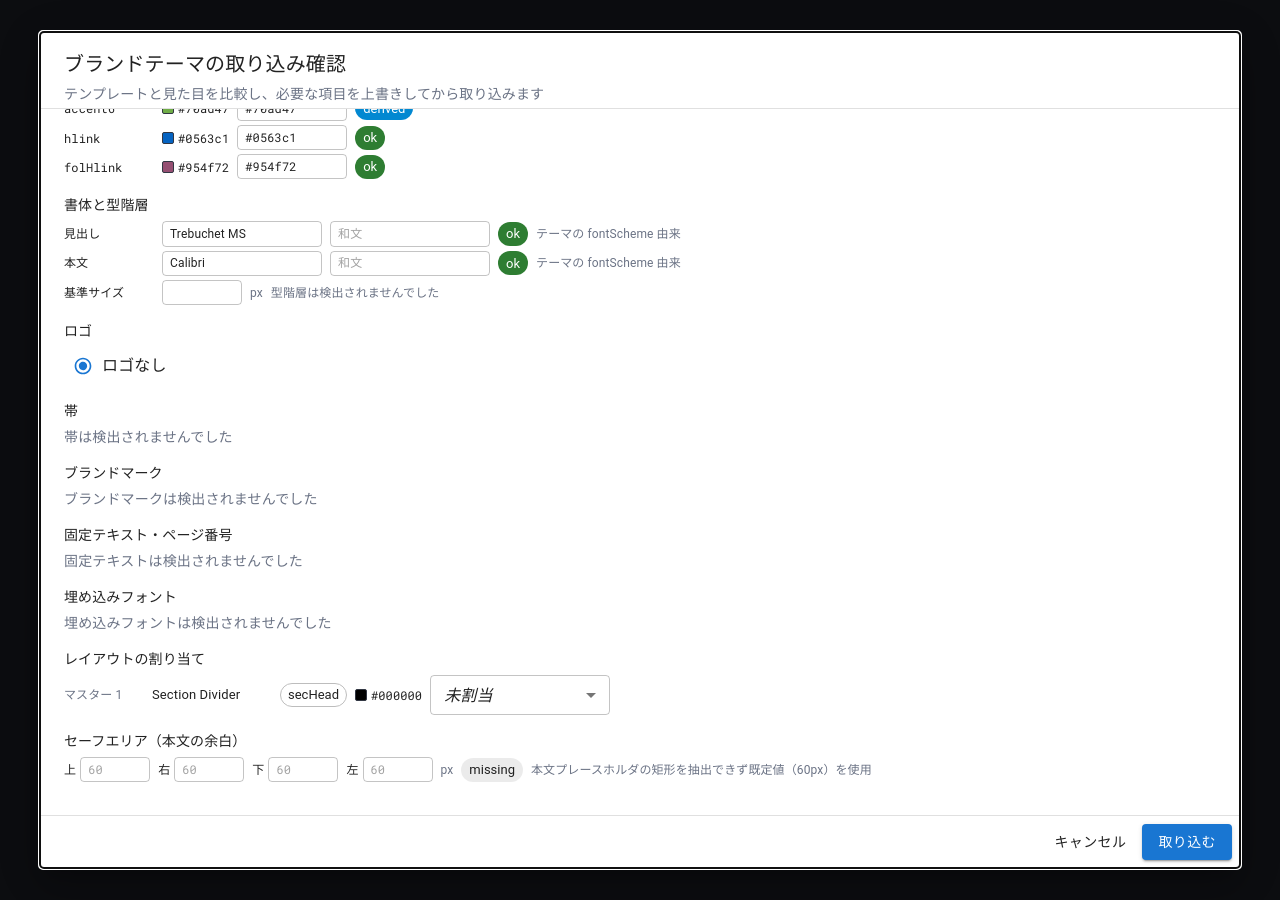
Test case: BrandConfirmDialog（#168 並置比較・取り込み確認） › レイアウト枠の選択肢ラベルが locale 経由で解決される（#338）
(page scrolled)
Press the mouse on the dropdown named "Section Divider" at (468, 695), box [444, 686, 493, 704]
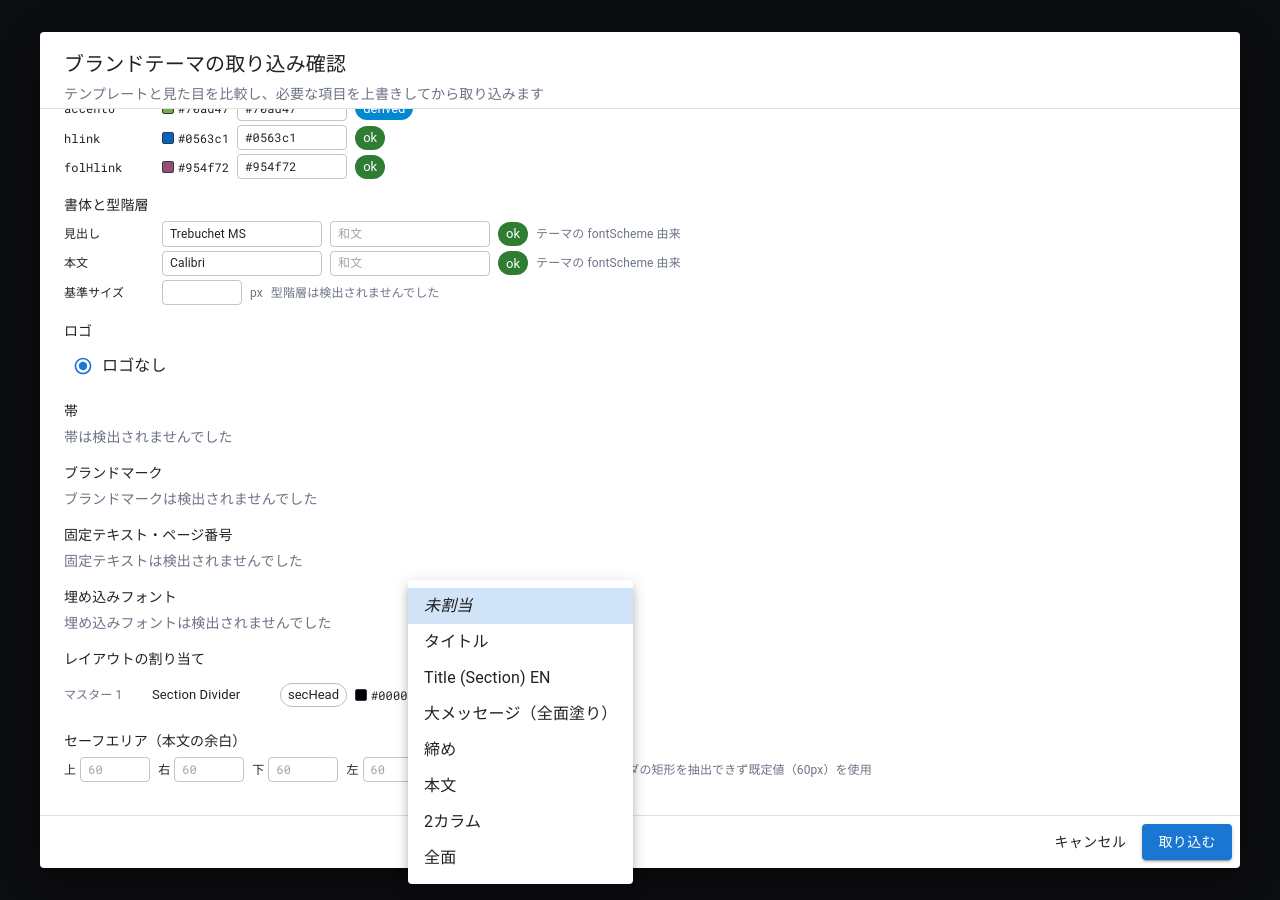
Result: the option "Title (Section) EN" is shown at [424, 668, 551, 687]
